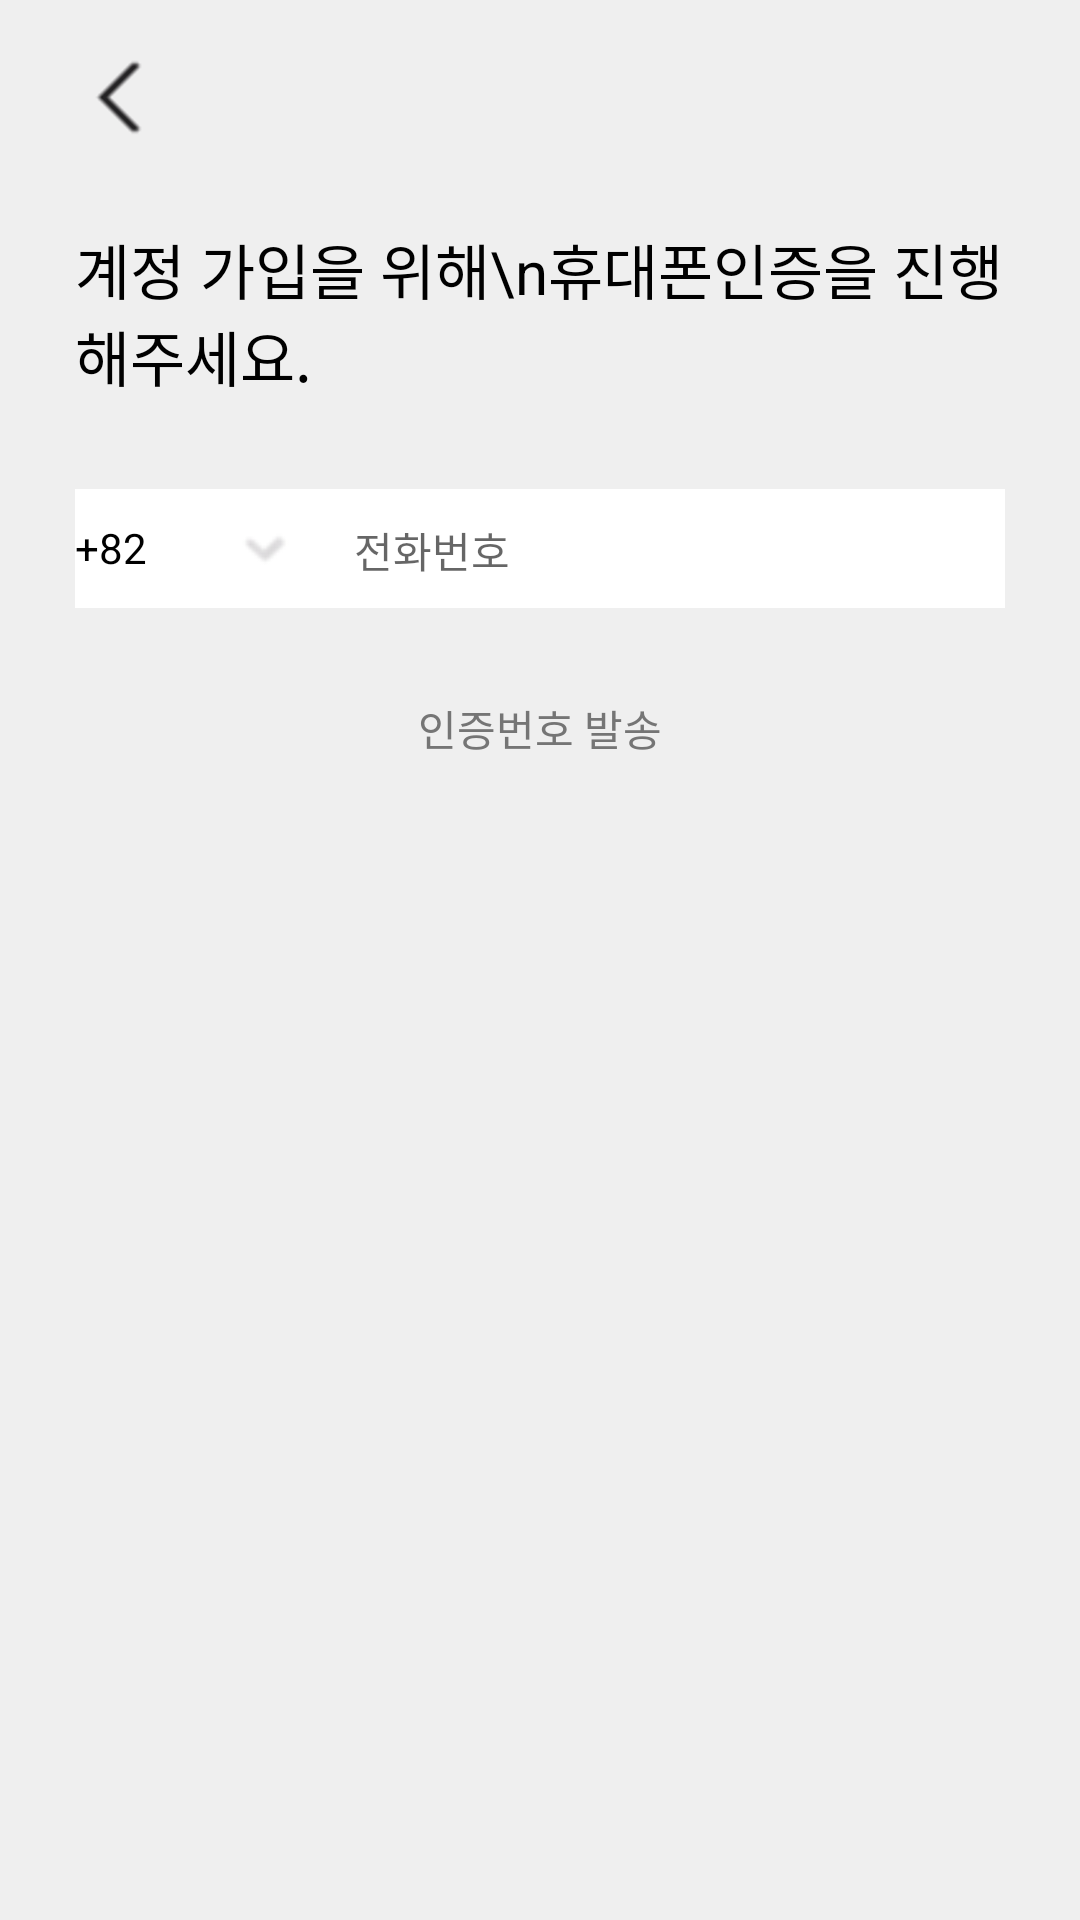

Icons on this 1080px x 1920px Android screen, each with its box as Rect(x1, y1, x2, y2):
down scroll: Rect(248, 539, 282, 559)
left: Rect(97, 62, 140, 133)
